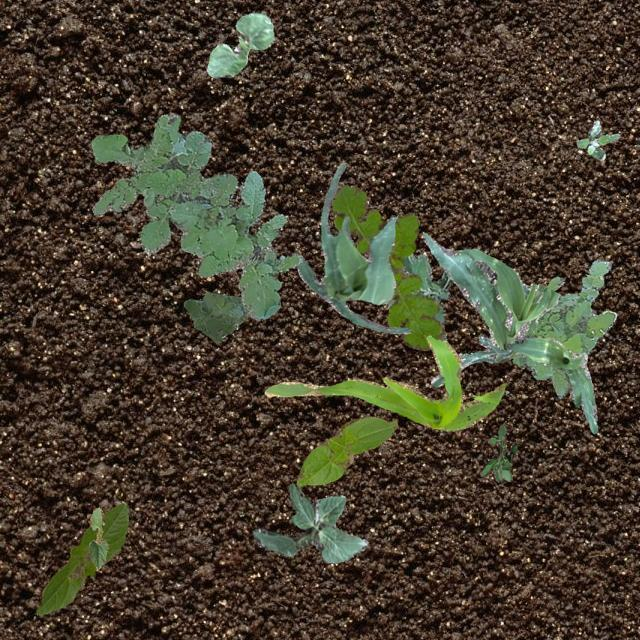crop: (264, 334, 504, 430), (422, 230, 560, 386), (294, 162, 410, 332), (34, 502, 128, 614), (252, 482, 368, 562), (504, 333, 596, 432), (296, 416, 396, 484), (206, 12, 274, 78), (88, 507, 108, 568)
weed: (90, 113, 302, 320), (330, 183, 444, 350), (512, 259, 616, 396), (387, 252, 452, 326), (182, 292, 248, 342), (478, 424, 516, 481), (576, 120, 618, 160)
